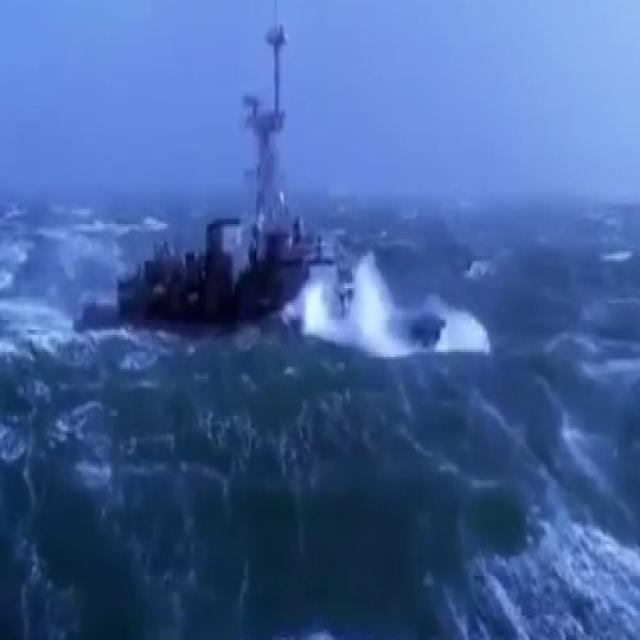houseboat: (79, 70, 436, 366)
